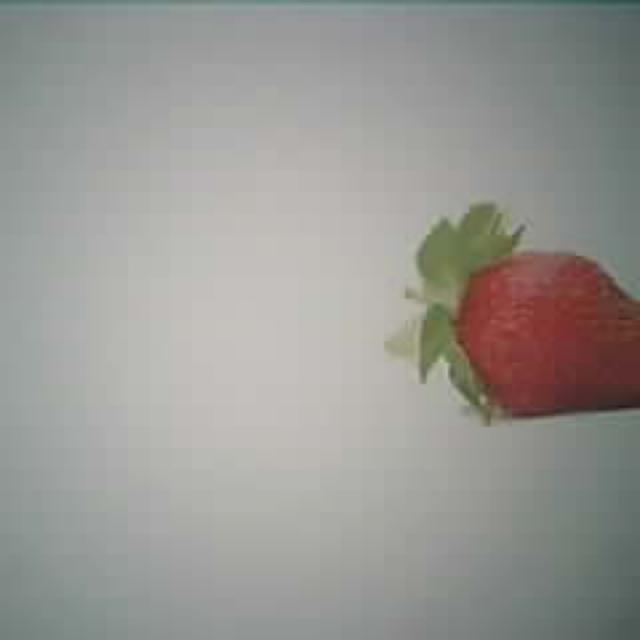strawberry: (461, 250, 640, 414)
